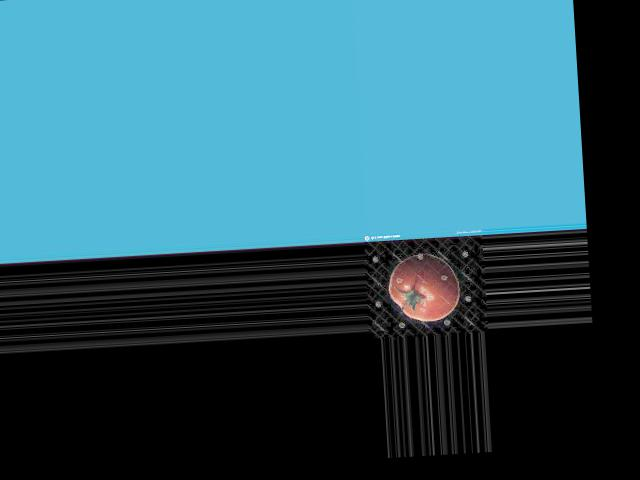tomato: (387, 252, 462, 323)
